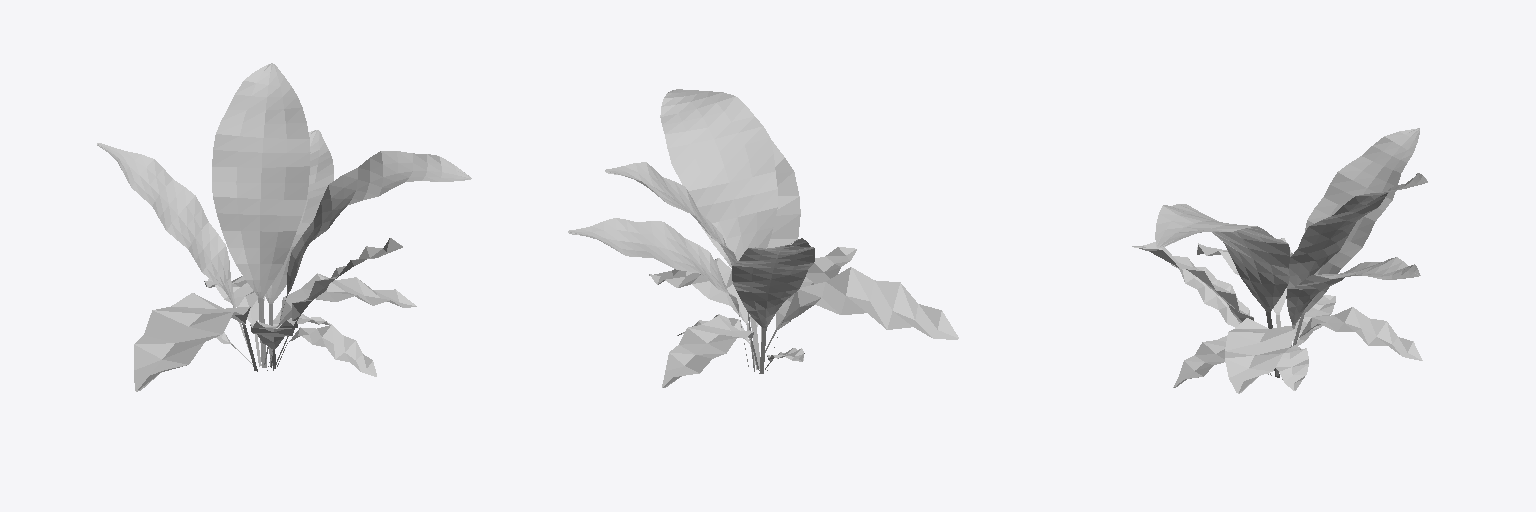
Rendered from bush1.obj.
3 views of the same model, side by side, from view 1: azimuth 30°, elevation 25°; view 2: azimuth 150°, elevation 25°; view 3: azimuth 270°, elevation 25° (orthographic).
Parts seen in each view (by area): view 1: Plant.001_000-0-0.001; view 2: Plant.001_000-0-0.001; view 3: Plant.001_000-0-0.001.
Part boxes in pixels (x1,y1,x2,y2): Plant.001_000-0-0.001: (97, 63, 471, 391); Plant.001_000-0-0.001: (568, 89, 958, 387); Plant.001_000-0-0.001: (1132, 128, 1427, 393).
Bounding box in the file's own units: 0.9234 × 0.6624 × 0.7636.